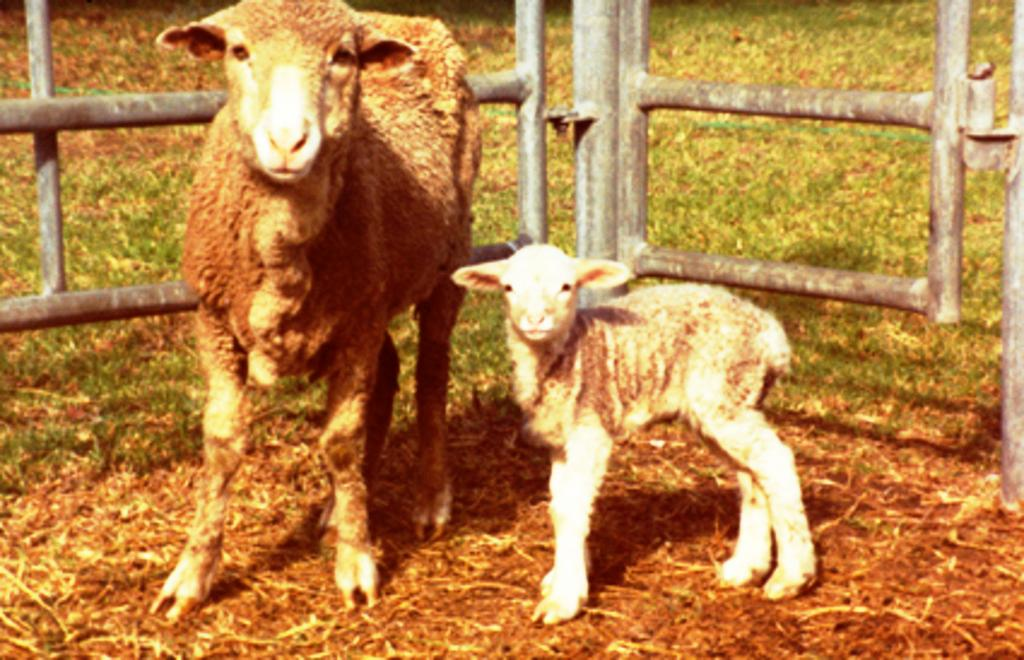Sheep: (144, 0, 480, 626), (451, 238, 824, 626)
